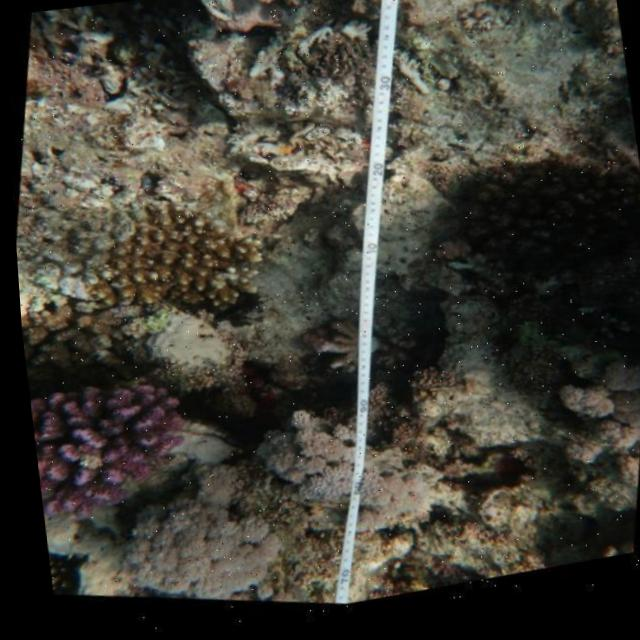Healthy Coral: (20, 341, 208, 545), (66, 183, 284, 356)
